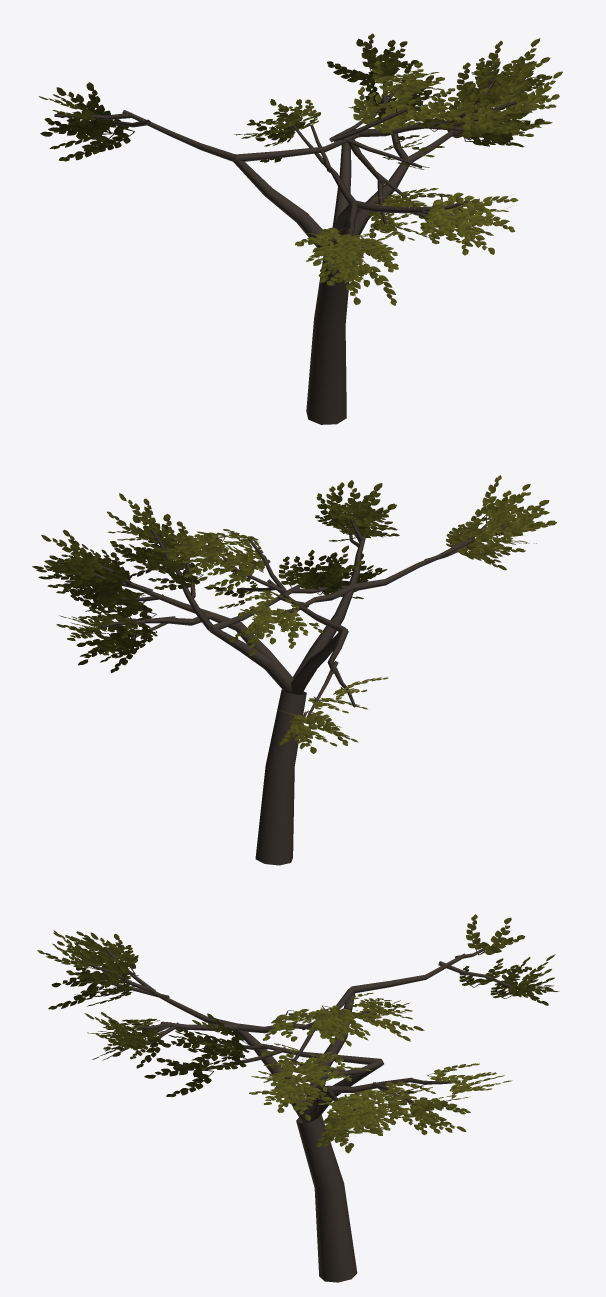
The model's file is acacia_2_burnt2.glb.
3 views of the same model, one above another, from view 1: azimuth 30°, elevation 25°; view 2: azimuth 150°, elevation 25°; view 3: azimuth 270°, elevation 25° (orthographic). The views are drawn at different scales.
Parts seen in each view (by area): view 1: acacia_2_burnt2; view 2: acacia_2_burnt2; view 3: acacia_2_burnt2.
Part boxes in pixels (x1,y1,x2,y2): acacia_2_burnt2: (38, 33, 562, 424); acacia_2_burnt2: (32, 475, 556, 865); acacia_2_burnt2: (37, 914, 559, 1282).
Size of the model in its own units: 8.63 by 5.68 by 9.64.
2 materials, 1 textured.
